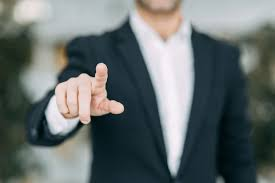hand: (55, 62, 125, 125)
